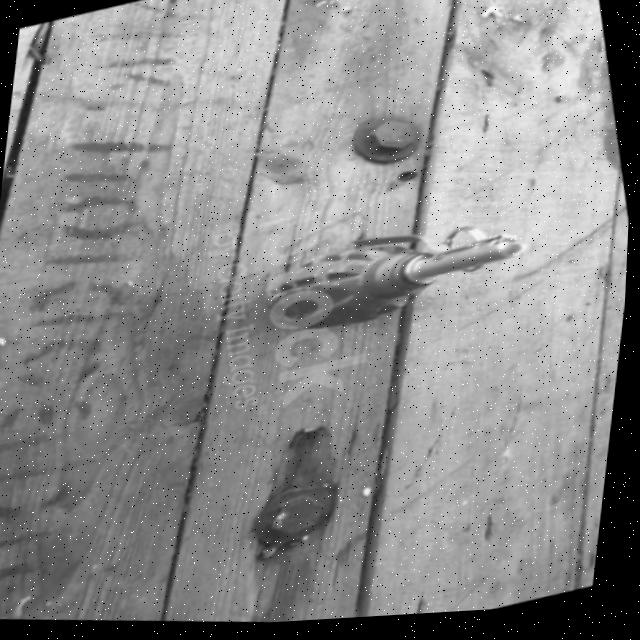grenade: (262, 191, 535, 365)
